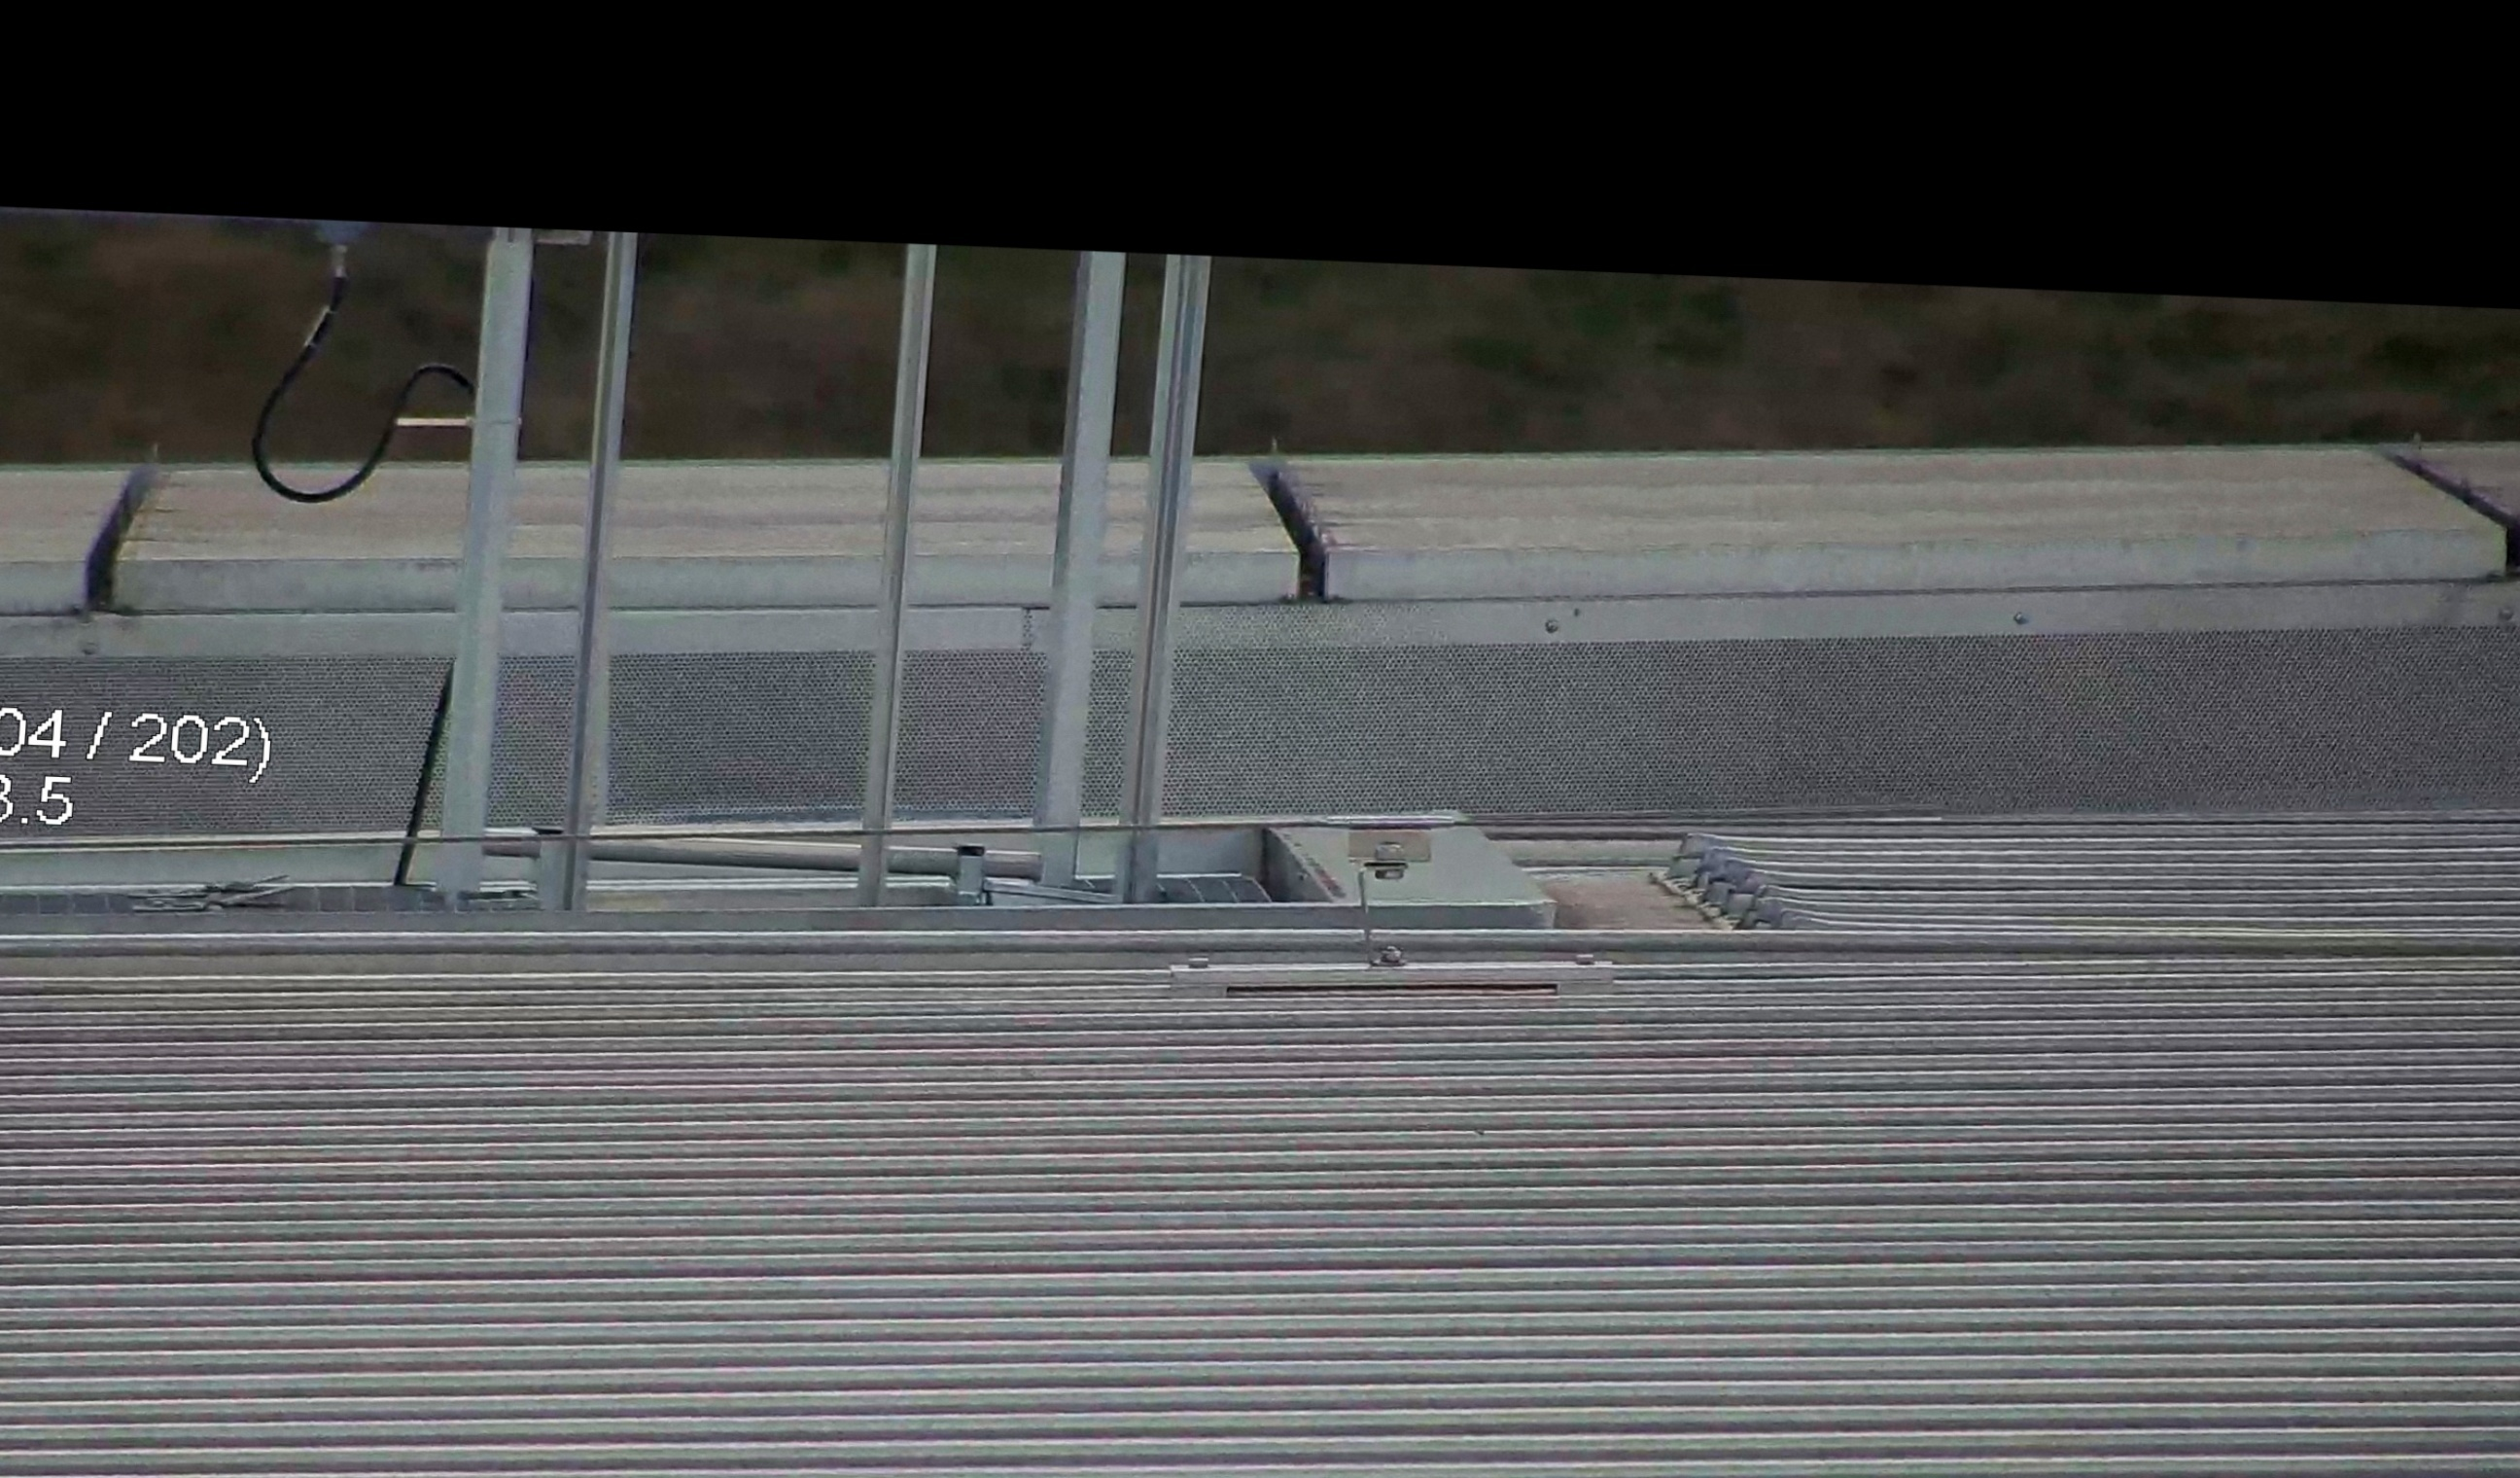Other: (1229, 436, 1373, 611)
